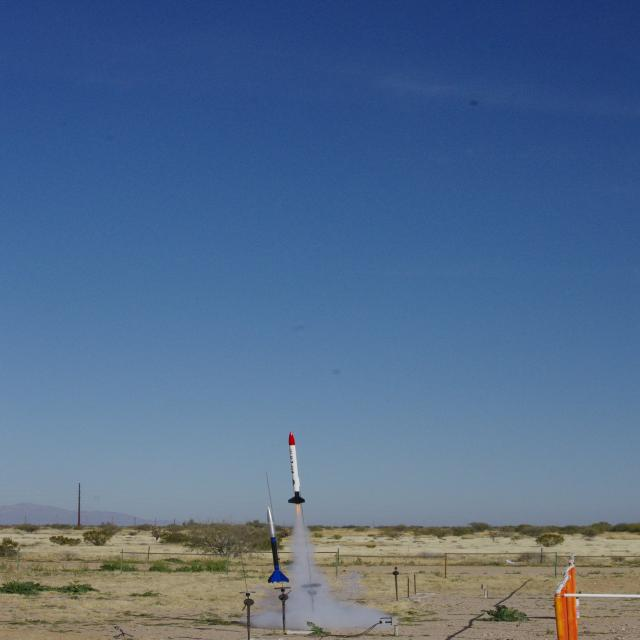Rocket: (266, 506, 290, 584), (288, 432, 306, 504)
